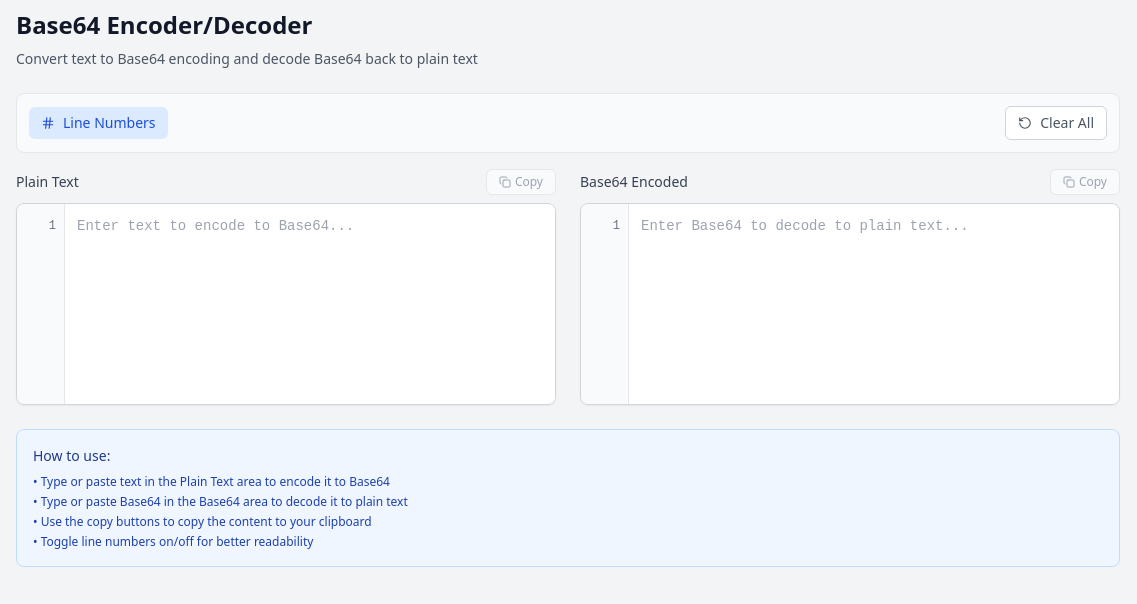
Base64SideBySide › shows error for invalid Base64
Type "!!!" into the text box labelled "Base64 Encoded" at (874, 304), box x1=629 y1=204 x2=1119 y2=404
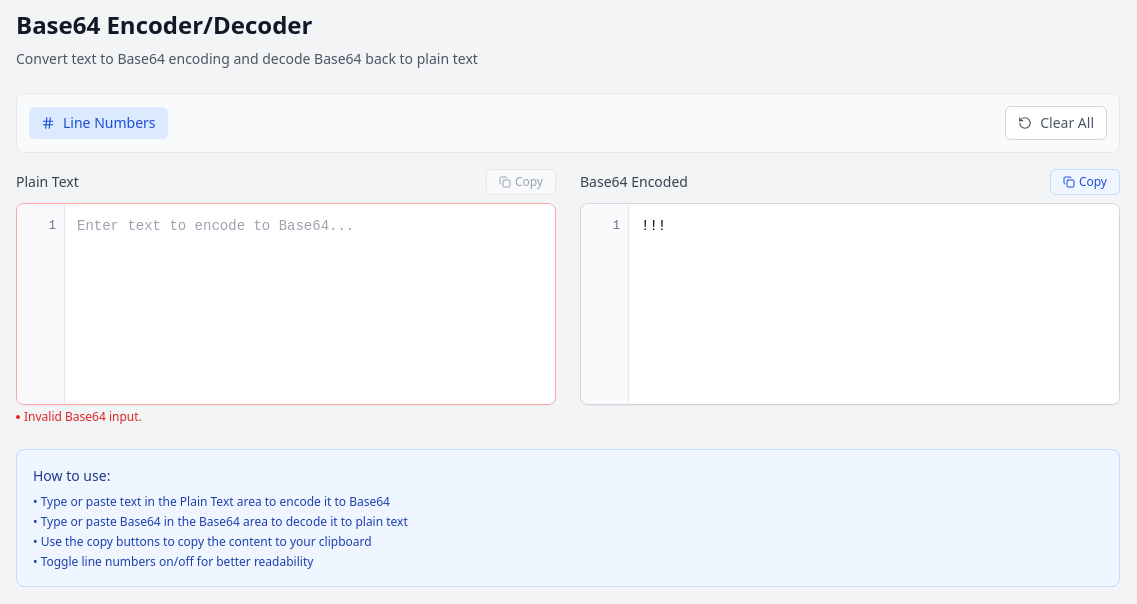
Check: the text box labelled "Plain Text" is empty, box x1=65 y1=204 x2=555 y2=404
Check: the text "Invalid Base64 input." is shown, box x1=16 y1=408 x2=142 y2=425
